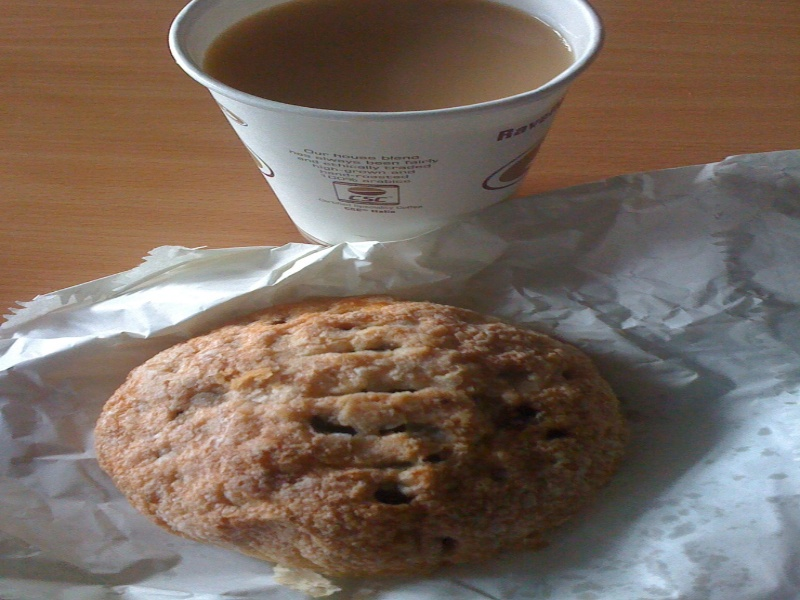cup: (146, 2, 606, 237)
